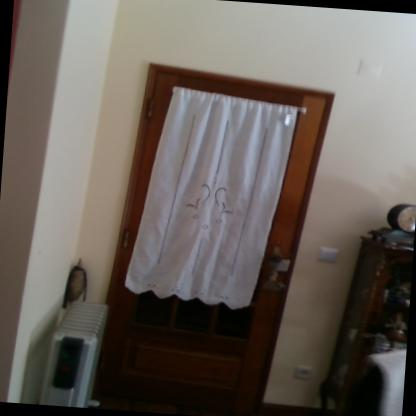closed: (85, 55, 352, 415)
